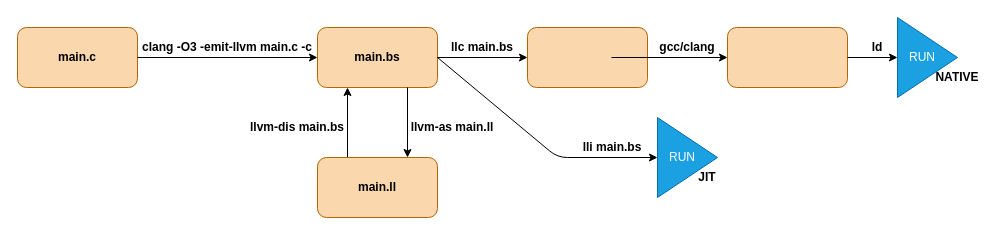
Some shapes in this 996 by 235 pixel diagram are drawn without their labels. The centre of each missing label's shape, as x and y in pixels:
main.o: (x=787, y=57)
main.s: (x=587, y=57)
